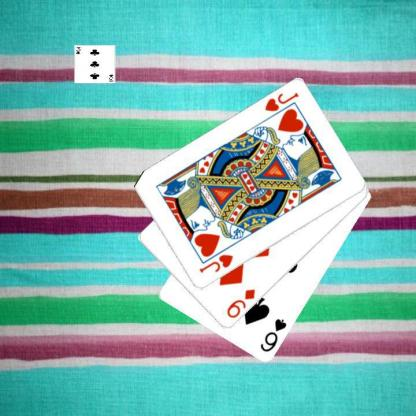6S: (258, 316, 288, 354)
9D: (224, 287, 257, 320)
JH: (262, 90, 300, 113), (196, 252, 234, 274)
